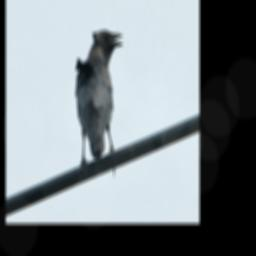Crow: (75, 25, 123, 179)
